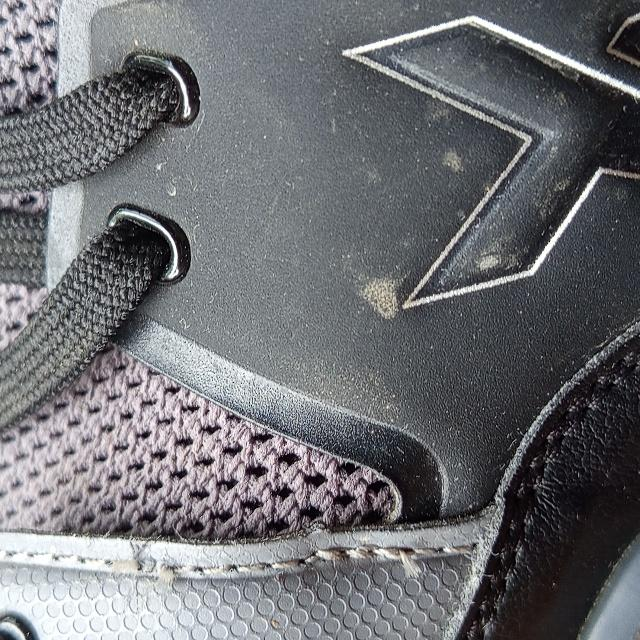broken: (116, 546, 183, 586)
